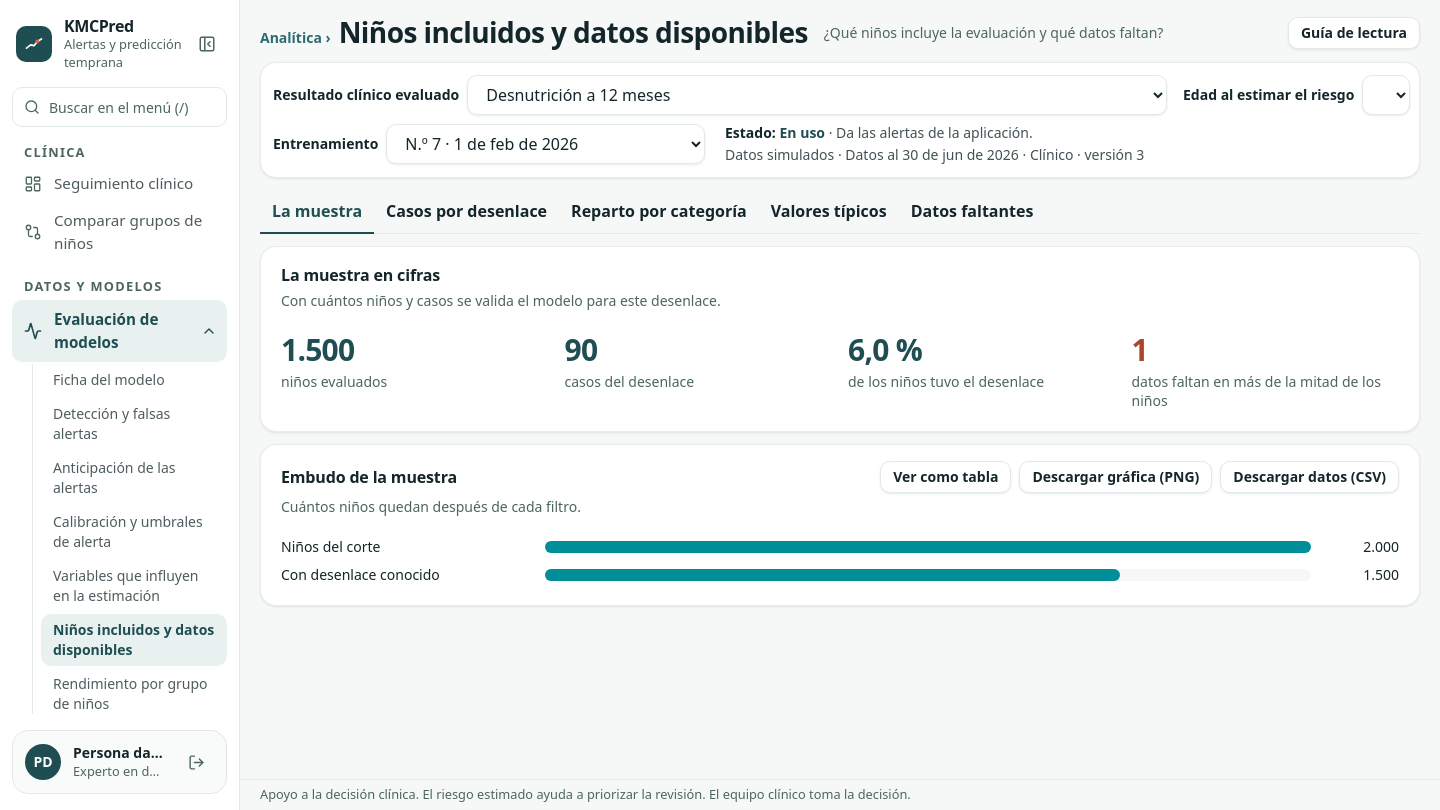
it: Población en pestañas › «Reparto por categoría» y «Valores típicos» ponen la muestra frente a todos los niños
Click the tab "Reparto por categoría": (659, 212) [559,190,759,234]
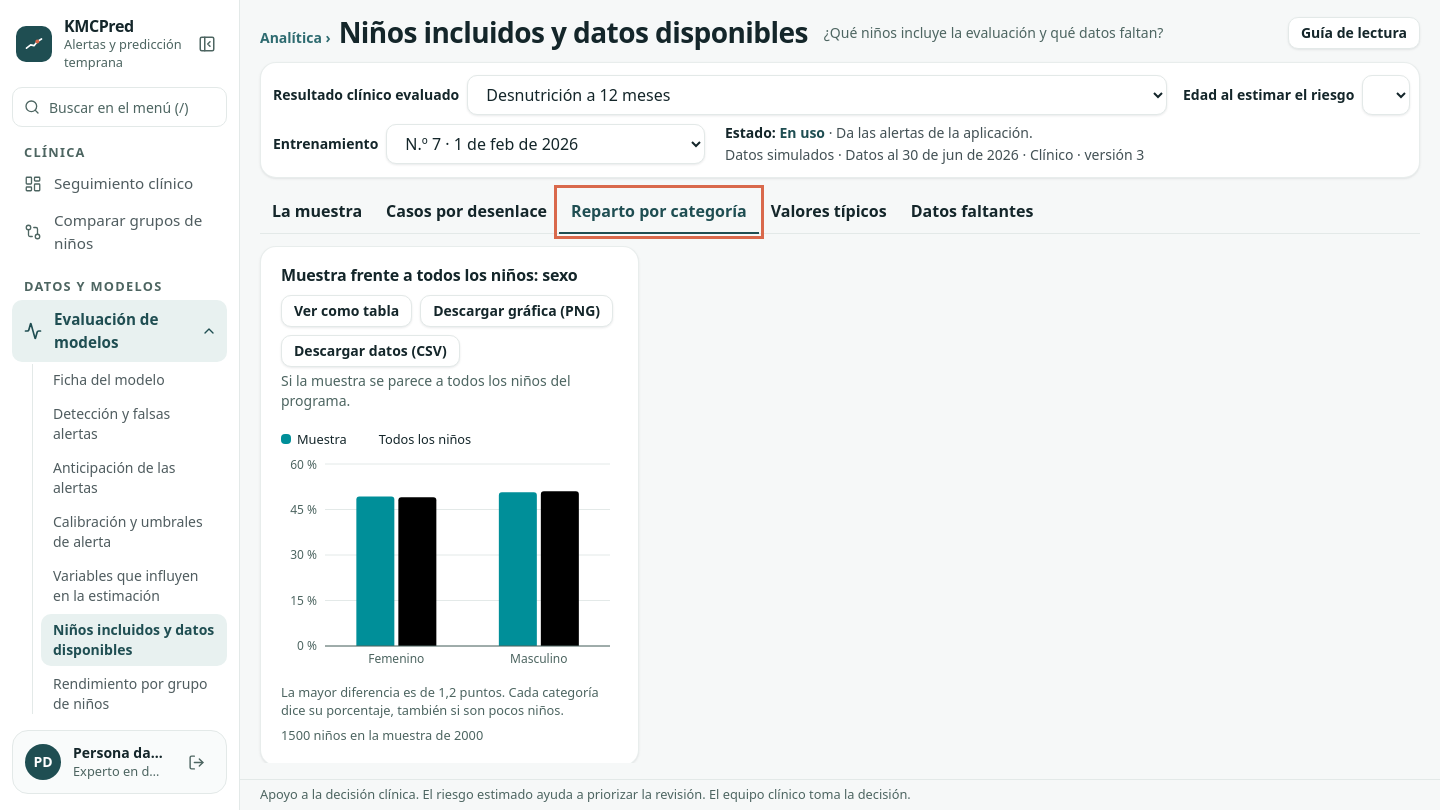
Expected: the text "Mediana" is not shown
Now the element named "sexo: la muestra frente a todos los niños" is shown, box [281,456,618,676]
Now the heading "La muestra en cifras" is gone
Click the tab "Valores típicos": (829, 212) [759,190,899,234]
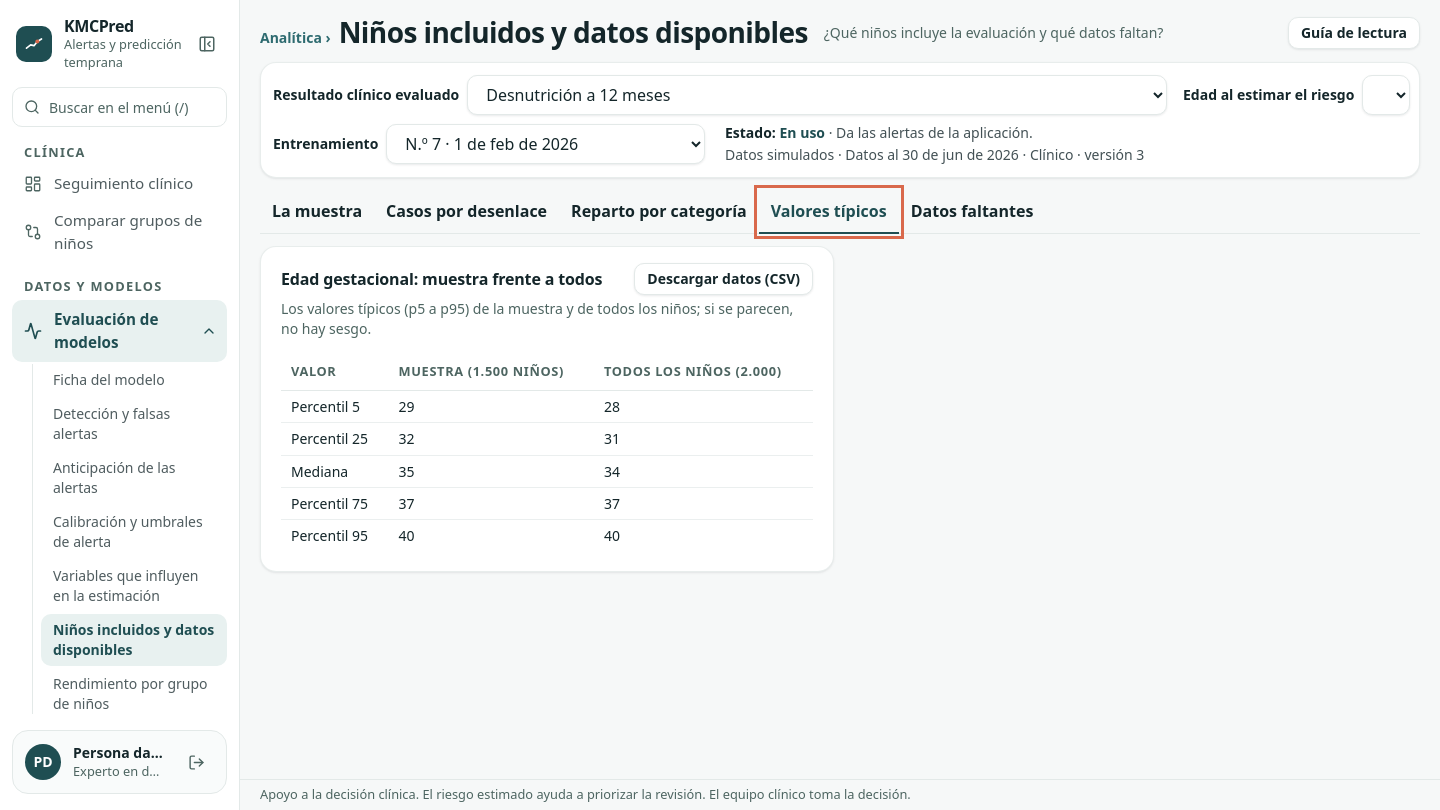
Now the heading "Edad gestacional: muestra frente a todos" is shown, box [281,267,602,291]
Now the text "Mediana" is shown, box [281,455,389,488]
